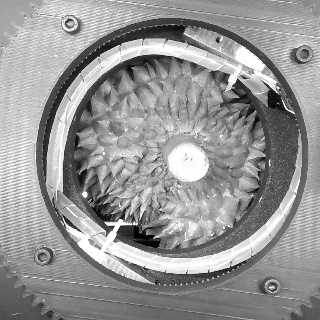base: (155, 130, 208, 172)
end: (167, 142, 209, 183)
